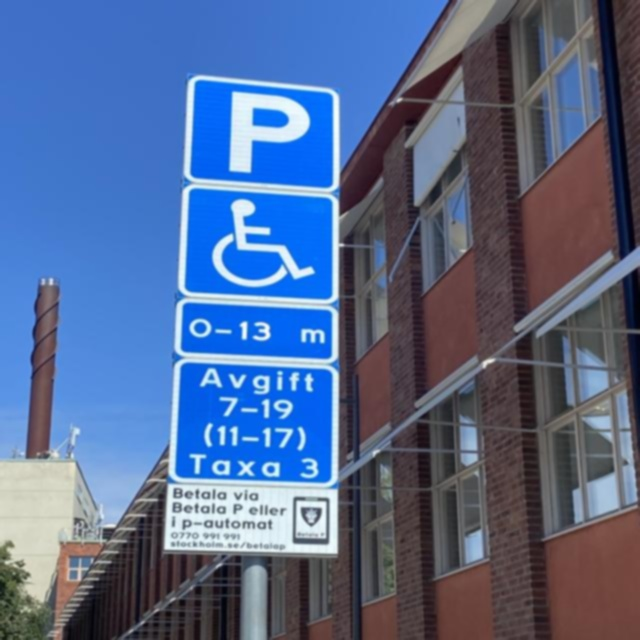P-skylt: (188, 74, 337, 193)
